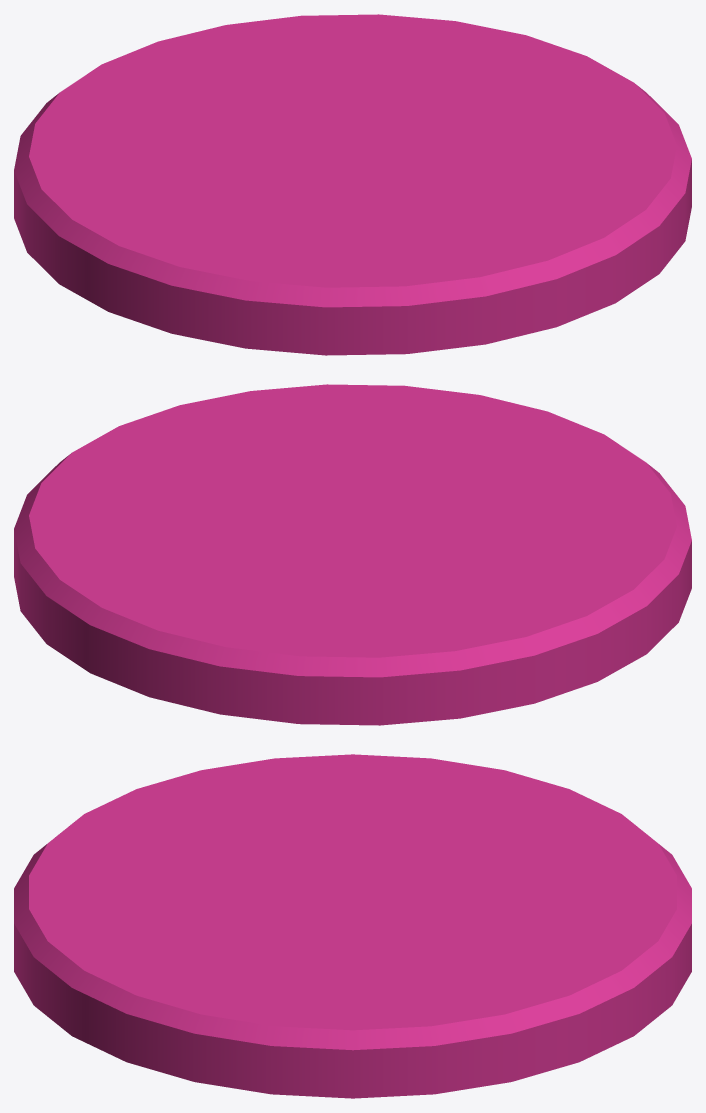
The model's file is Home_7.fbx.
The picture shows the model from 3 angles, top to bottom: view 1: azimuth 30°, elevation 25°; view 2: azimuth 150°, elevation 25°; view 3: azimuth 270°, elevation 25°; orthographic projection.
Parts seen in each view (by area): view 1: Home_7; view 2: Home_7; view 3: Home_7.
Boxes of the visible parts, x1,y1,x2,y2 form: Home_7: (14,14,691,355); Home_7: (14,384,691,725); Home_7: (14,754,691,1098).
Size of the model in its own units: 20 by 2 by 19.85.
